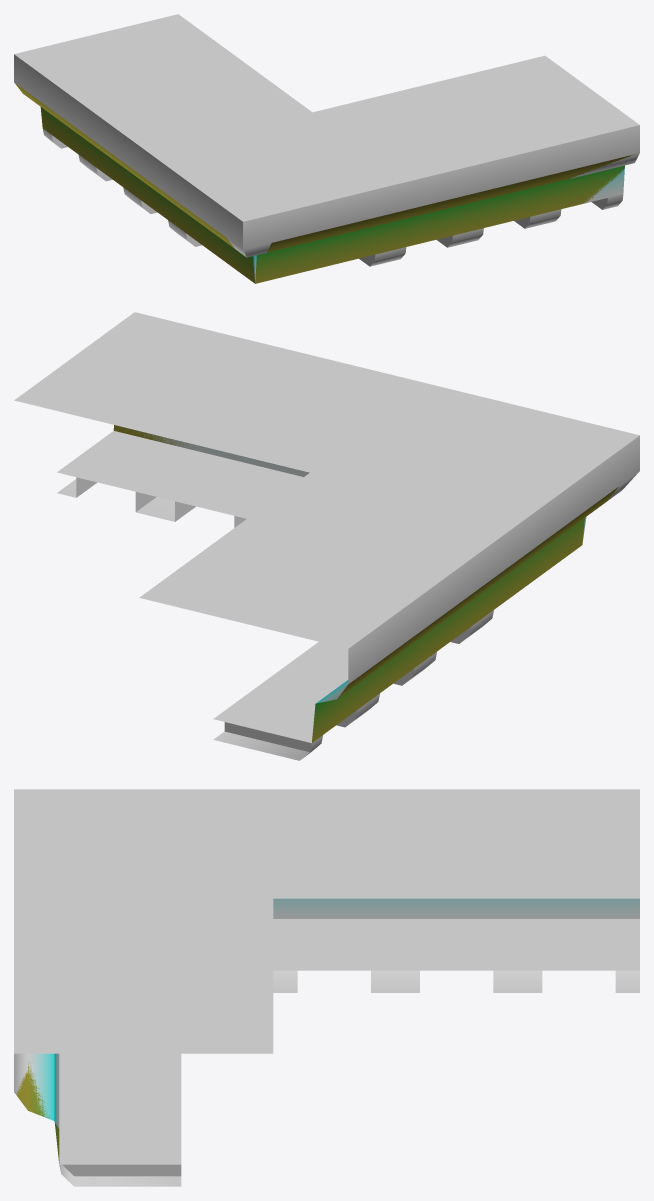
The model's file is SM_CorniceACorner1.5m.fbx.
3 renders of one model, top to bottom at view 1: azimuth 30°, elevation 25°; view 2: azimuth 150°, elevation 25°; view 3: azimuth 270°, elevation 25°, orthographic. The views are drawn at different scales.
Visible parts, largest first — view 1: SM_CorniceACorner1.5m; view 2: SM_CorniceACorner1.5m; view 3: SM_CorniceACorner1.5m.
Part boxes in pixels (bbox=[...]): SM_CorniceACorner1.5m: bbox=[14, 14, 639, 283]; SM_CorniceACorner1.5m: bbox=[14, 312, 639, 760]; SM_CorniceACorner1.5m: bbox=[14, 789, 639, 1186].
Size of the model in its own units: 256 by 60 by 256.
